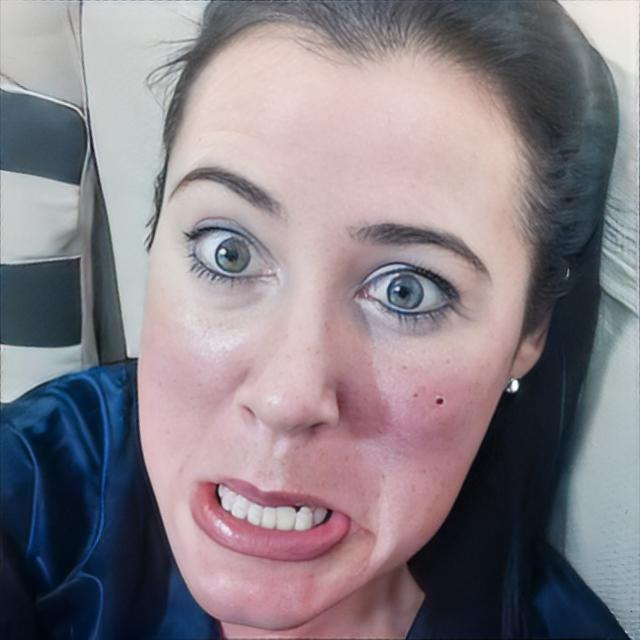fear: (136, 14, 543, 634)
